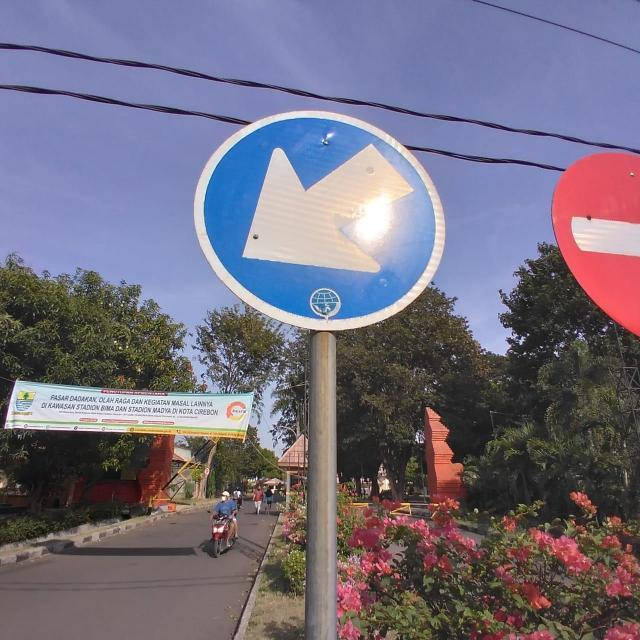traffic sign: (193, 115, 447, 326)
